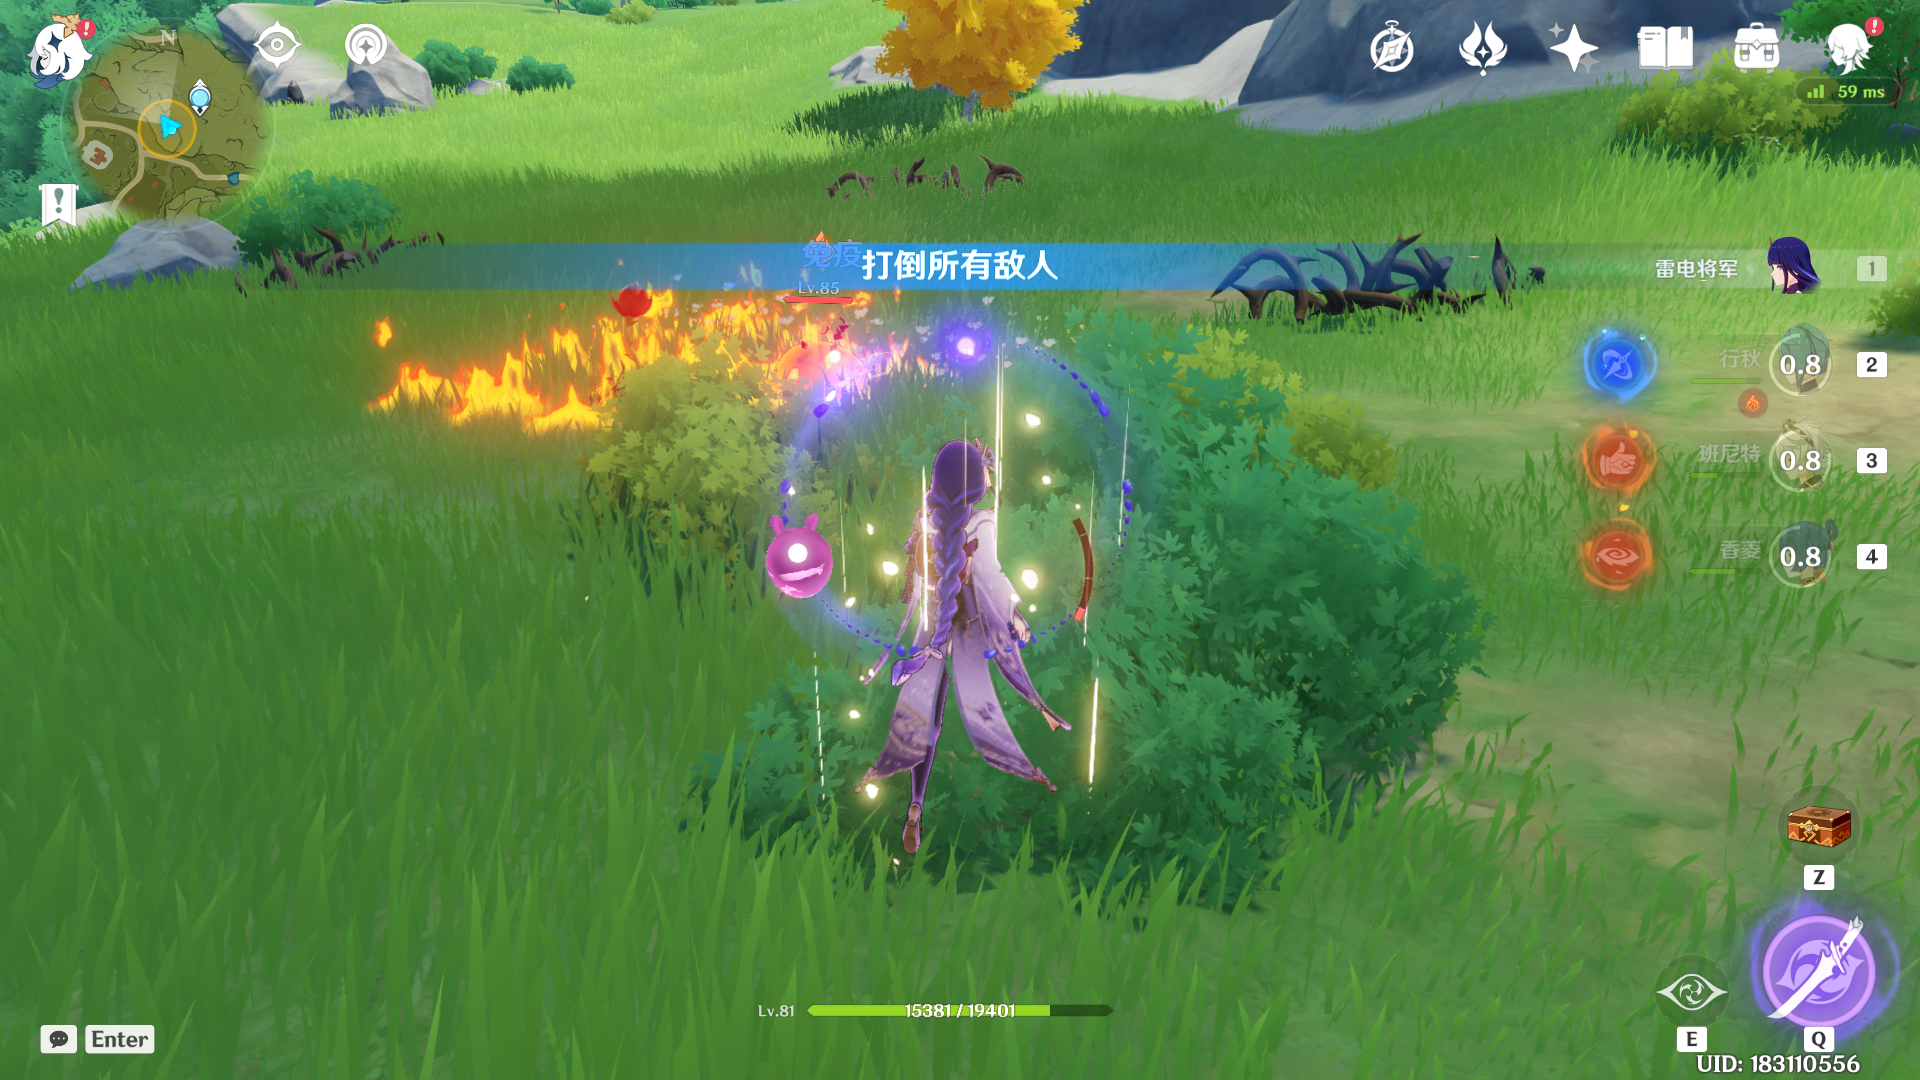character: (815, 415, 1109, 851)
